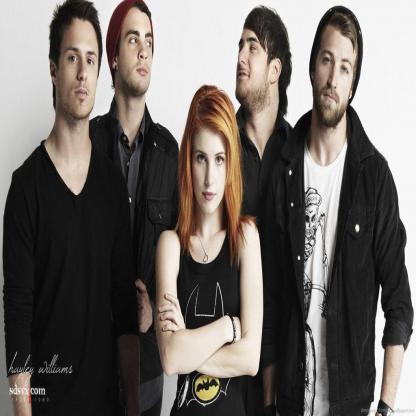face: (59, 21, 99, 117), (316, 30, 356, 119), (193, 126, 229, 214), (119, 10, 154, 92), (237, 26, 269, 98)
